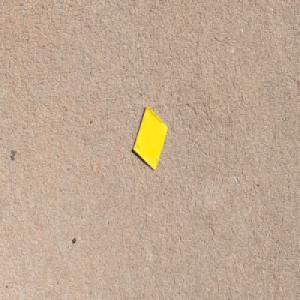PlasticPart: (132, 104, 168, 171)
